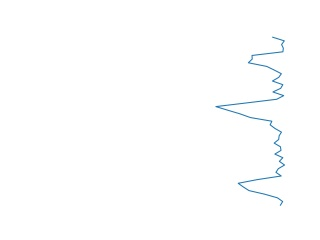underwaterNaturalLevee: (211, 34, 291, 206)
